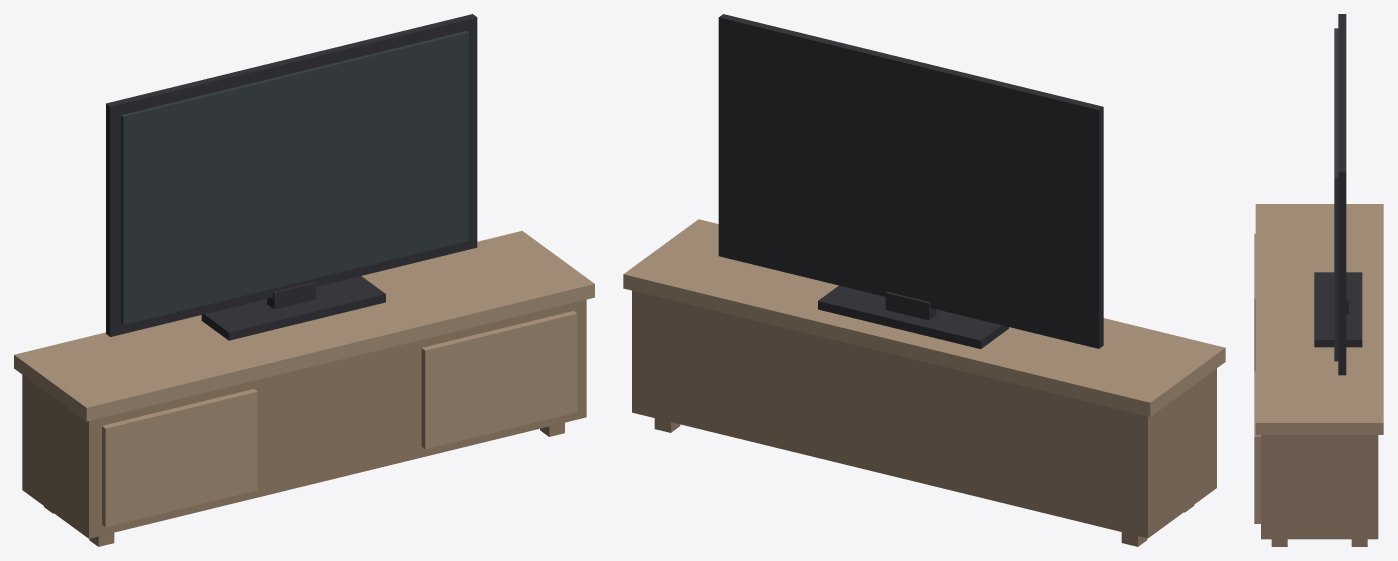
Rendered from entertainment-center.gltf.
The picture shows the model from 3 angles, left to right: view 1: azimuth 30°, elevation 25°; view 2: azimuth 150°, elevation 25°; view 3: azimuth 270°, elevation 25°; orthographic projection. The views are drawn at different scales.
Visible parts, largest first — view 1: tv_screen, top_slab, carcass, door_r, door_l, tv_frame, tv_foot, tv_neck; view 2: tv_frame, carcass, top_slab, tv_foot, tv_neck; view 3: top_slab, carcass, tv_frame, tv_foot, tv_screen, door_r, door_l.
Part boxes in pixels (left/top/right/bottom): tv_screen: left=121, top=31, right=468, bottom=325; top_slab: left=14, top=231, right=594, bottom=421; carcass: left=22, top=299, right=586, bottom=538; door_r: left=421, top=311, right=577, bottom=449; door_l: left=102, top=389, right=257, bottom=527; tv_frame: left=106, top=14, right=477, bottom=336; tv_foot: left=201, top=276, right=385, bottom=340; tv_neck: left=267, top=282, right=316, bottom=309; tv_frame: left=718, top=14, right=1103, bottom=348; carcass: left=632, top=290, right=1216, bottom=538; top_slab: left=623, top=219, right=1225, bottom=416; tv_foot: left=818, top=285, right=1008, bottom=349; tv_neck: left=885, top=291, right=936, bottom=320; top_slab: left=1255, top=204, right=1383, bottom=434; carcass: left=1261, top=435, right=1378, bottom=539; tv_frame: left=1338, top=14, right=1346, bottom=375; tv_foot: left=1314, top=272, right=1362, bottom=347; tv_screen: left=1334, top=28, right=1338, bottom=361; door_r: left=1254, top=371, right=1260, bottom=523; door_l: left=1254, top=233, right=1255, bottom=371.
Bounding box in the file's own units: 0.1213 × 0.0913 × 0.0303.
